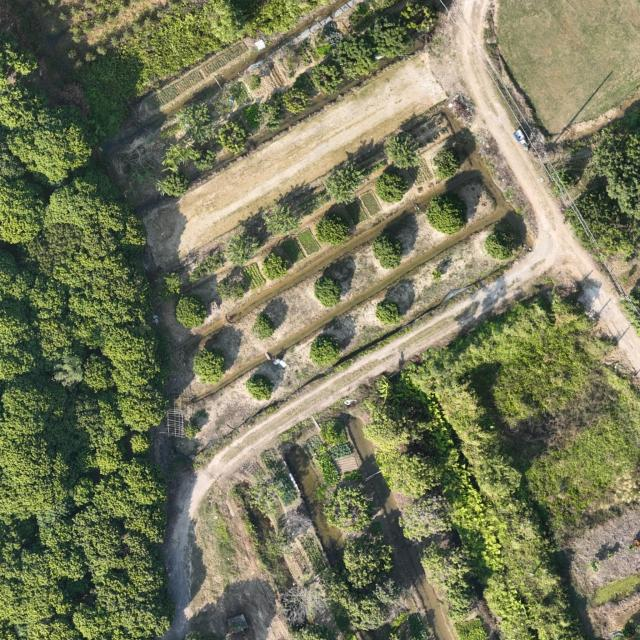Tree: (374, 446, 442, 499), (342, 533, 394, 589), (362, 402, 423, 449), (397, 499, 452, 543), (331, 32, 379, 80), (322, 486, 371, 532), (365, 14, 413, 60), (320, 162, 370, 206), (425, 190, 468, 235), (220, 229, 261, 268), (383, 132, 421, 170), (314, 211, 351, 249), (261, 205, 304, 237), (192, 346, 226, 386), (174, 293, 208, 330), (430, 143, 461, 183), (310, 60, 344, 96), (374, 170, 409, 204), (371, 232, 402, 270), (308, 332, 341, 367), (401, 1, 436, 32), (217, 120, 247, 156), (483, 229, 514, 261), (313, 275, 342, 309), (159, 168, 191, 198), (280, 86, 311, 114), (254, 101, 282, 131), (245, 374, 276, 401), (262, 252, 290, 280), (375, 298, 401, 327), (251, 312, 277, 340), (193, 148, 217, 170)
